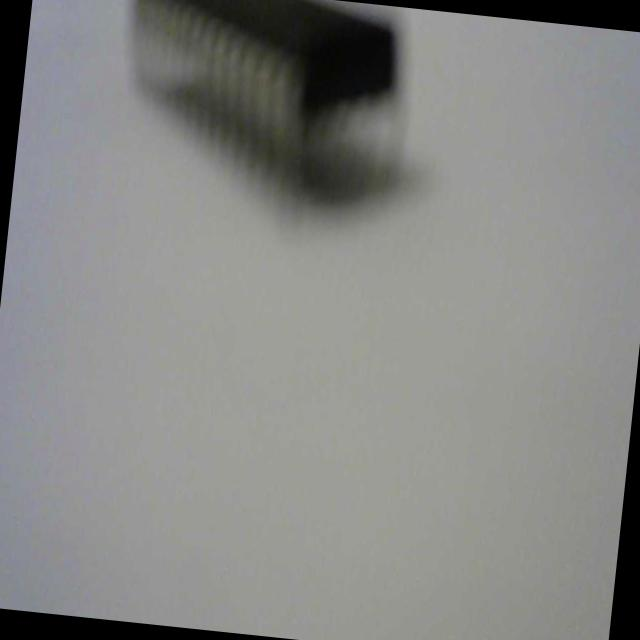atmega: (109, 0, 424, 214)
